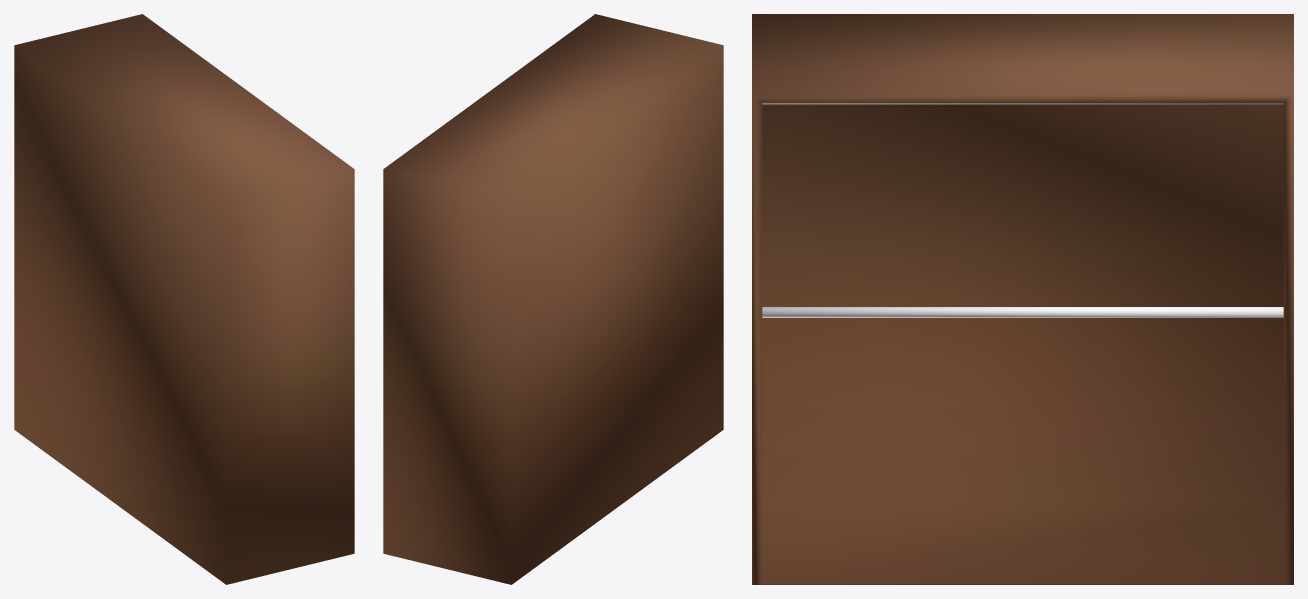
File: 40467227-48ab-4d67-899c-7c7ca7abfa5c.glb
3 views of the same model, side by side, from view 1: azimuth 30°, elevation 25°; view 2: azimuth 150°, elevation 25°; view 3: azimuth 270°, elevation 25° (orthographic). The views are drawn at different scales.
Visible parts, largest first — view 1: ClothingClosetBrown; view 2: ClothingClosetBrown; view 3: ClothingClosetBrown.
Boxes of the visible parts, x1=… form: ClothingClosetBrown: x1=14, y1=14, x2=354, y2=584; ClothingClosetBrown: x1=383, y1=14, x2=723, y2=584; ClothingClosetBrown: x1=752, y1=14, x2=1293, y2=584.
Size of what is drawn, in the model's own units: 0.6986 by 2 by 2.
Materials: 1 (1 with a texture image).
